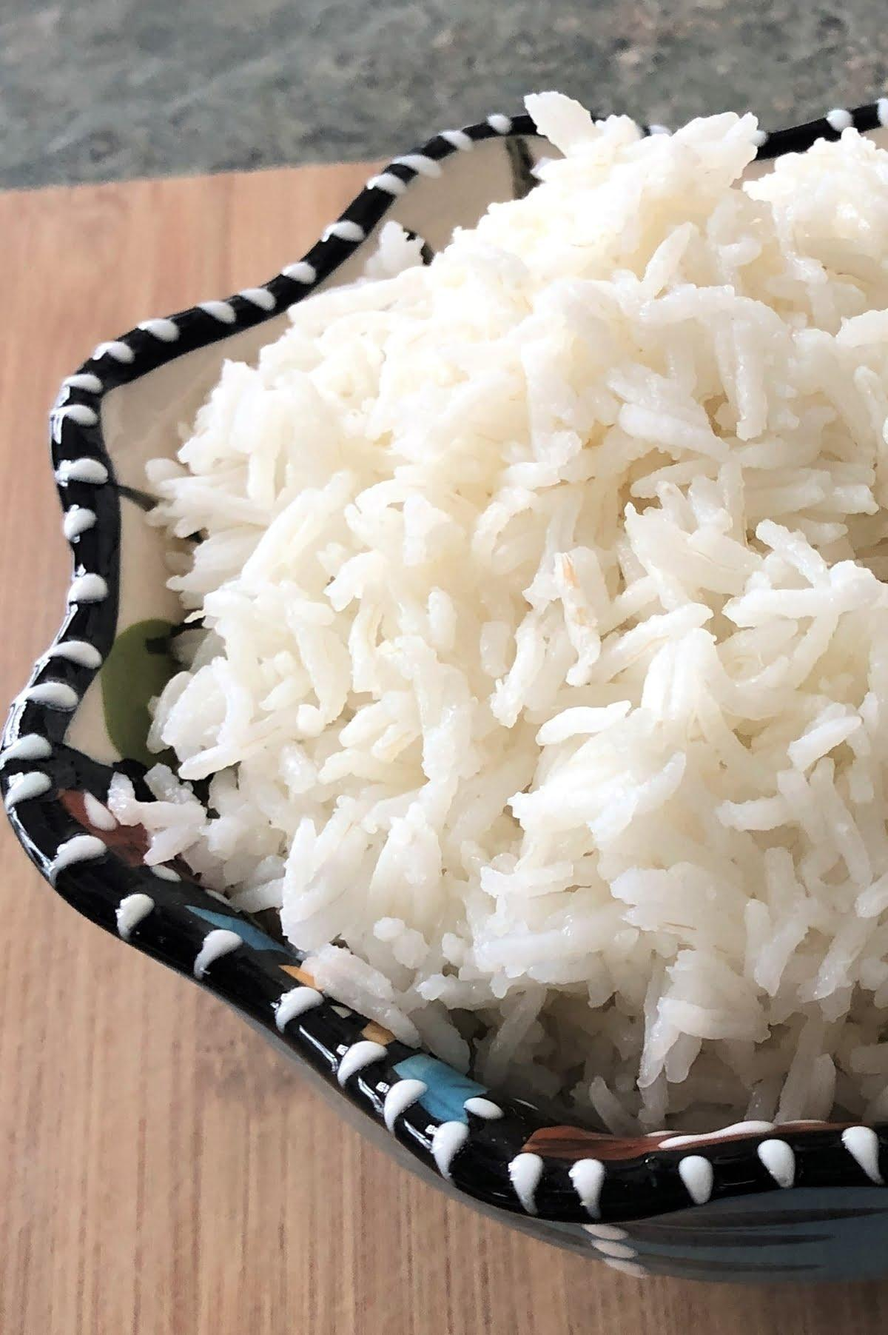rice: (174, 144, 888, 1120)
